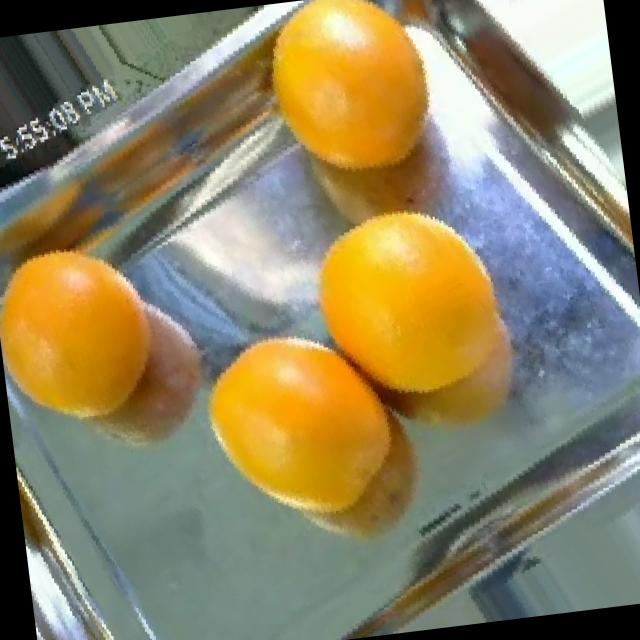Fruit: (21, 271, 232, 484)
